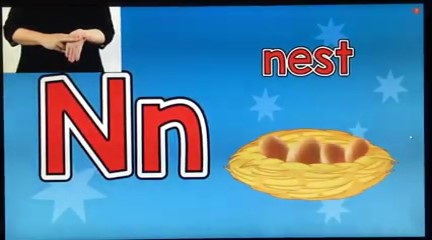N: (42, 25, 94, 66)
